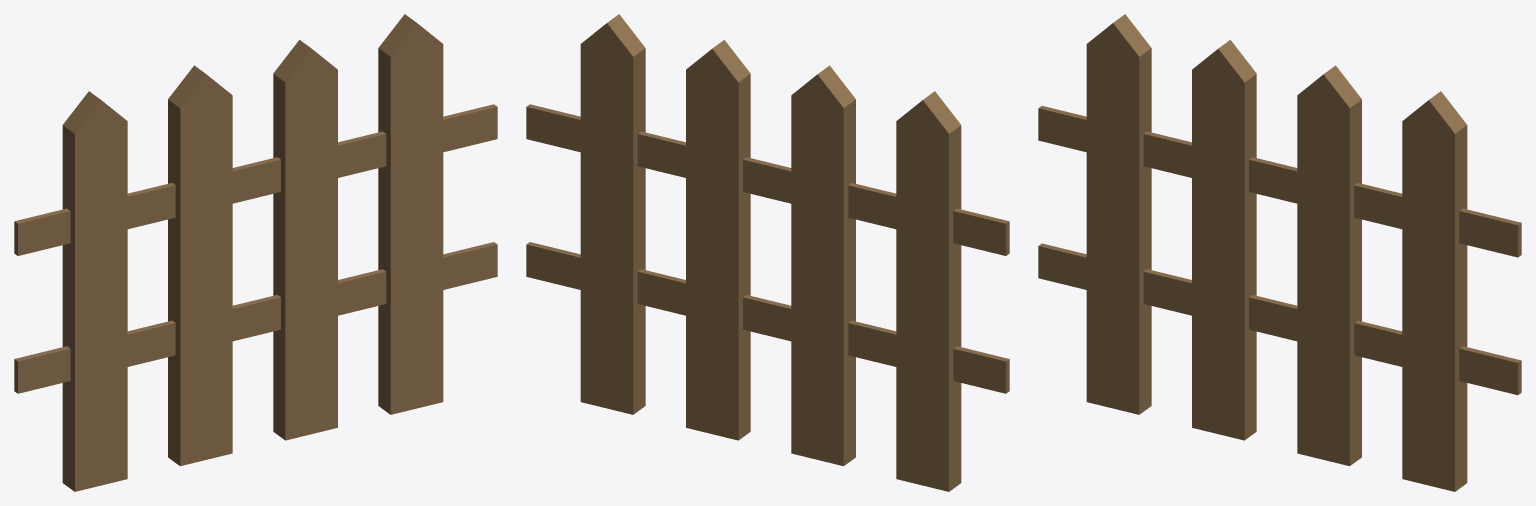
Rendered from La_Fence.fbx.
3 views of the same model, side by side, from view 1: azimuth 30°, elevation 25°; view 2: azimuth 150°, elevation 25°; view 3: azimuth 330°, elevation 25° (orthographic).
Visible parts, largest first — view 1: polySurface3; view 2: polySurface3; view 3: polySurface3.
Boxes of the visible parts, x1,y1,x2,y2 form: polySurface3: (14, 14, 497, 491); polySurface3: (526, 14, 1009, 491); polySurface3: (1038, 14, 1521, 491).
Size of the model in its own units: 9.11 by 7 by 0.4027.
